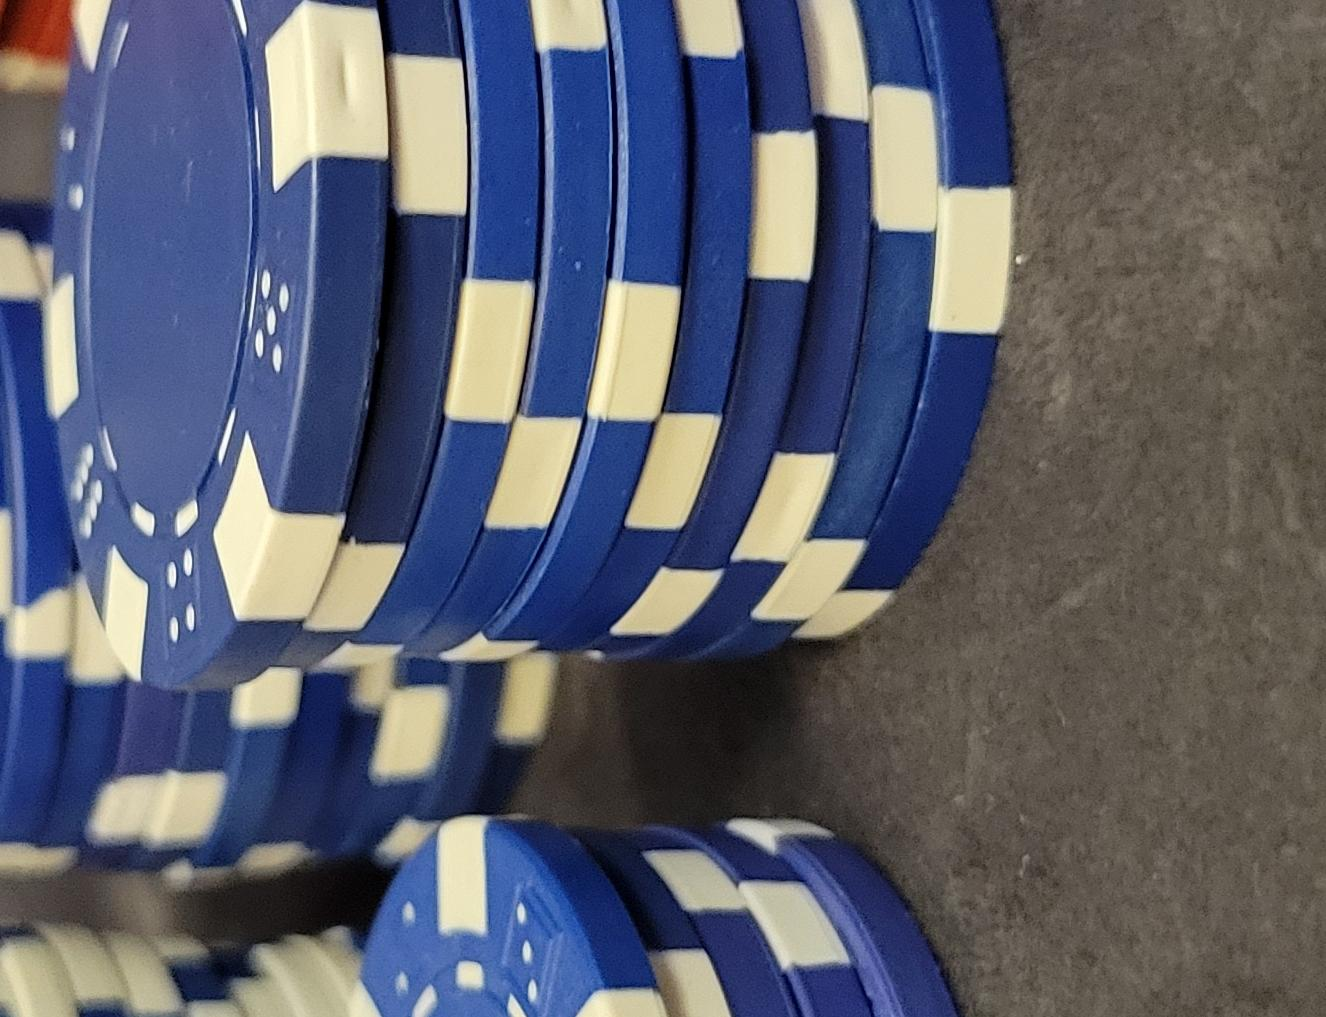Chip: (1, 357, 577, 1017)
